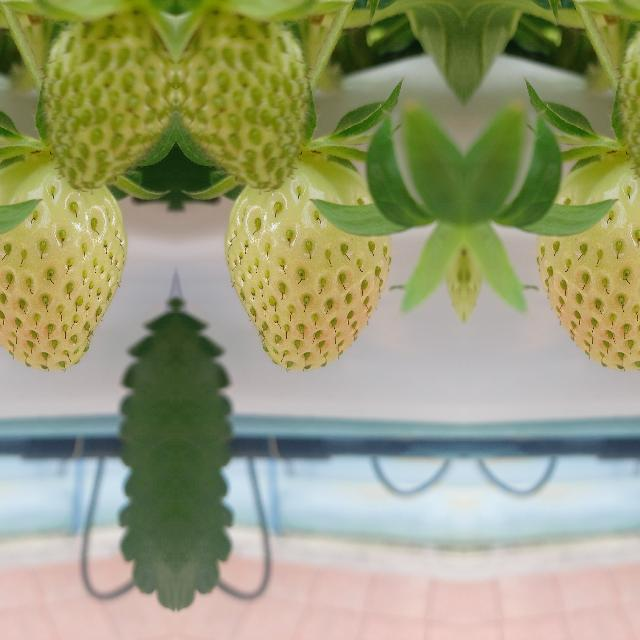Health_25: (224, 162, 390, 370), (0, 161, 126, 370), (175, 0, 313, 180), (37, 0, 175, 180), (536, 161, 640, 370)
